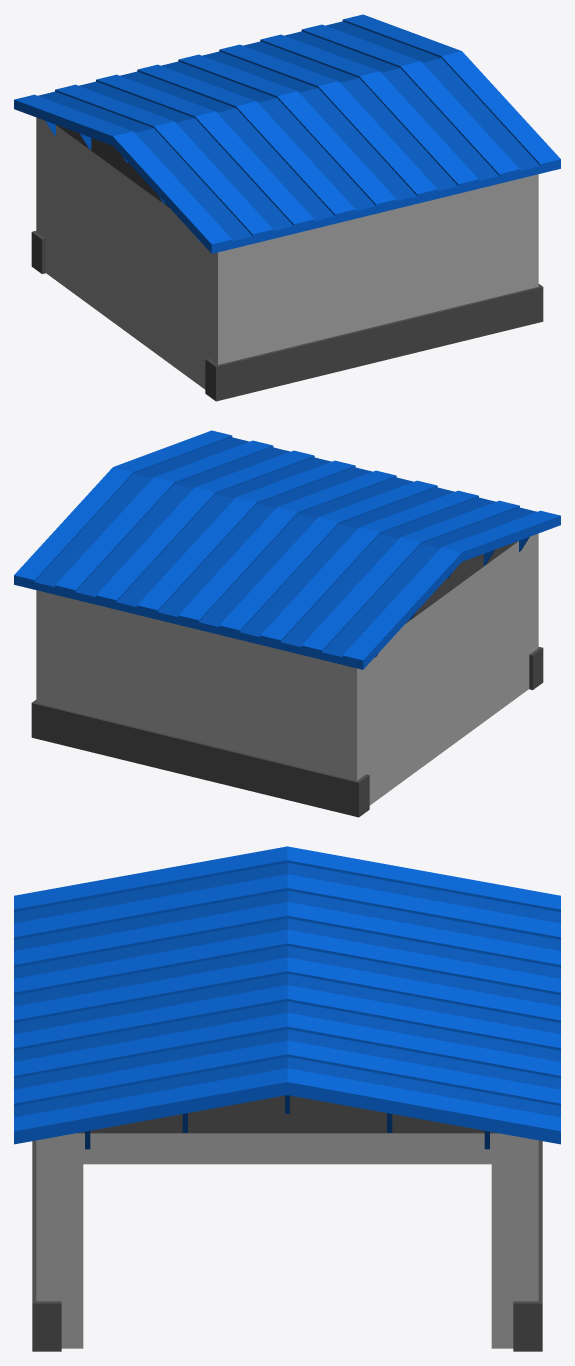
File: hangar.fbx
3 views of the same model, one above another, from view 1: azimuth 30°, elevation 25°; view 2: azimuth 150°, elevation 25°; view 3: azimuth 270°, elevation 25° (orthographic). The views are drawn at different scales.
Parts seen in each view (by area): view 1: Cube, Cube.001; view 2: Cube, Cube.001; view 3: Cube.001, Cube.
Part boxes in pixels (x1=…): Cube: x1=31, y1=117, x2=543, y2=401; Cube.001: x1=14, y1=14, x2=560, y2=253; Cube: x1=31, y1=533, x2=543, y2=817; Cube.001: x1=14, y1=430, x2=560, y2=669; Cube.001: x1=14, y1=846, x2=560, y2=1149; Cube: x1=32, y1=1095, x2=542, y2=1351.
Bounding box in the file's own units: 799 × 438 × 784.
